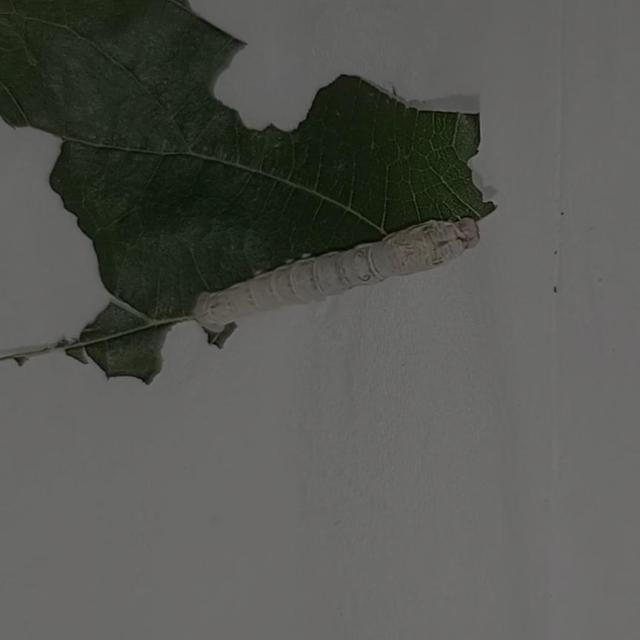Healthy: (171, 192, 509, 344)
